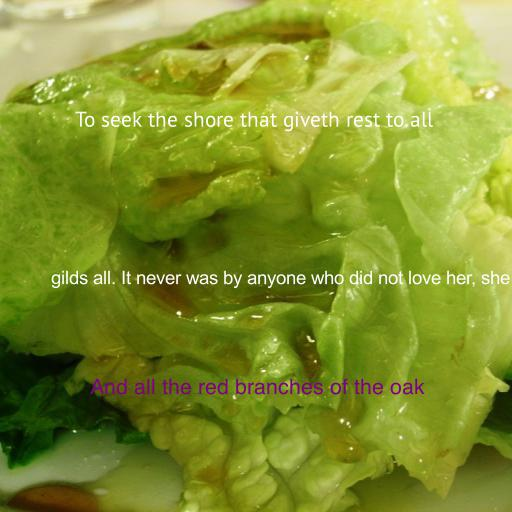Arial: (50, 270, 510, 289)
PT Sans: (75, 111, 433, 132)
SignPainter: (89, 378, 425, 395)
